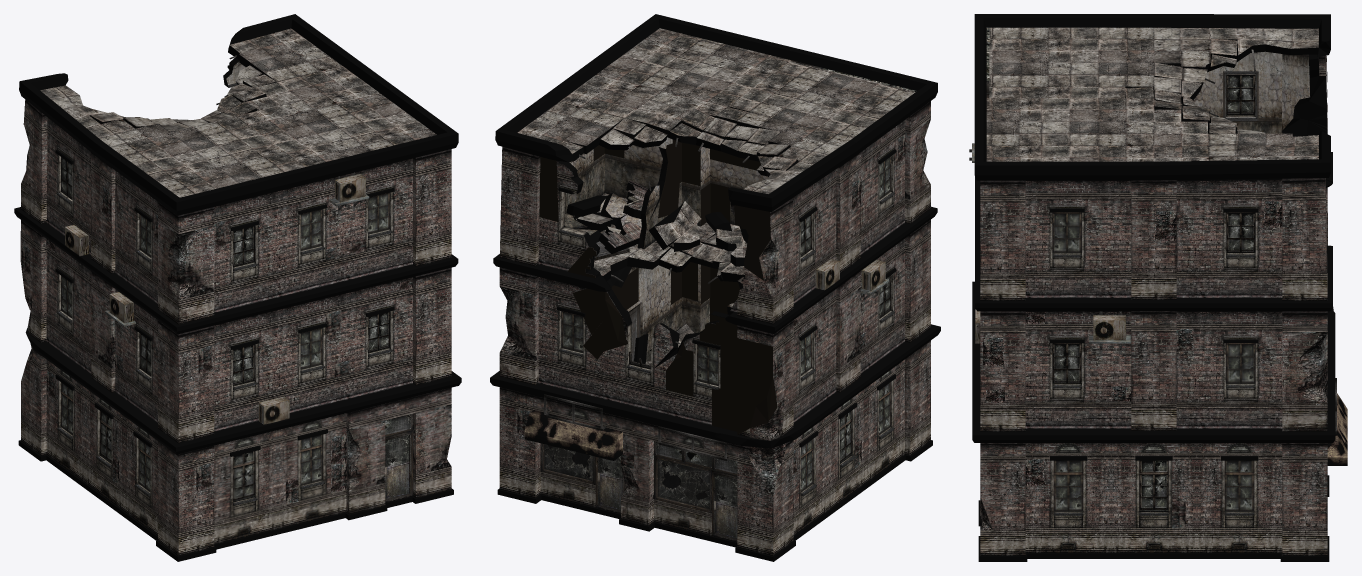
Rendered from broken_building02.fbx.
The picture shows the model from 3 angles, left to right: view 1: azimuth 30°, elevation 25°; view 2: azimuth 150°, elevation 25°; view 3: azimuth 270°, elevation 25°; orthographic projection. The views are drawn at different scales.
Parts seen in each view (by area): view 1: broken_building02; view 2: broken_building02; view 3: broken_building02.
Boxes of the visible parts, x1,y1,x2,y2 form: broken_building02: (14, 14, 461, 561); broken_building02: (490, 14, 940, 561); broken_building02: (969, 14, 1347, 561).
Bounding box in the file's own units: 94.57 × 113 × 96.87.
5 materials, 4 textured.
